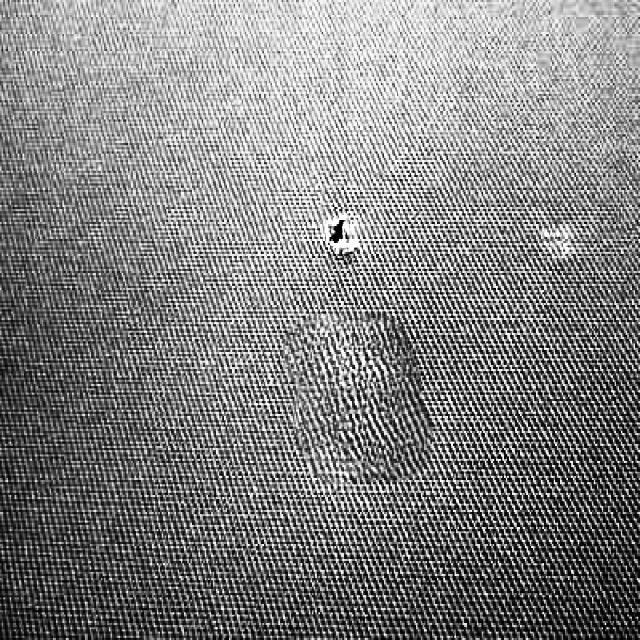Hole: (320, 212, 367, 262)
